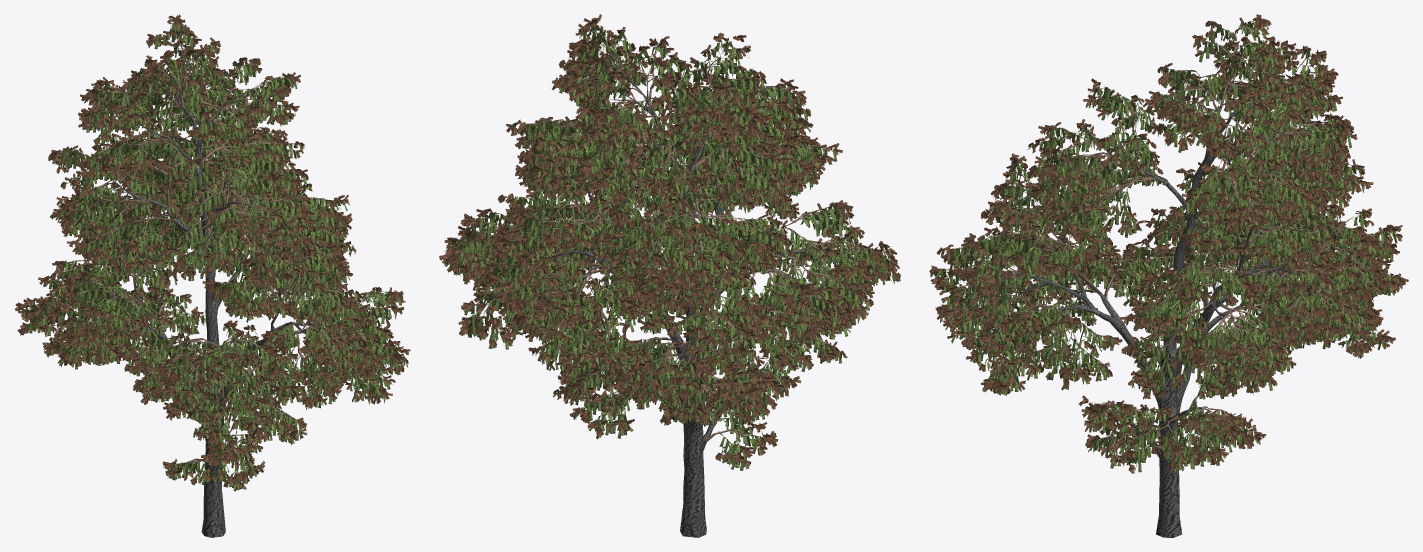
The model's file is tree-draco.glb.
3 views of the same model, side by side, from view 1: azimuth 30°, elevation 25°; view 2: azimuth 150°, elevation 25°; view 3: azimuth 270°, elevation 25° (orthographic). The views are drawn at different scales.
Parts seen in each view (by area): view 1: Gleditsia_triacanthos_v03_m01; view 2: Gleditsia_triacanthos_v03_m01; view 3: Gleditsia_triacanthos_v03_m01.
Boxes of the visible parts, x1,y1,x2,y2 form: Gleditsia_triacanthos_v03_m01: [14, 14, 410, 537]; Gleditsia_triacanthos_v03_m01: [439, 14, 900, 537]; Gleditsia_triacanthos_v03_m01: [929, 14, 1408, 537].
Bounding box in the file's own units: 3.36 × 4.65 × 4.04.
5 materials, 5 textured.
